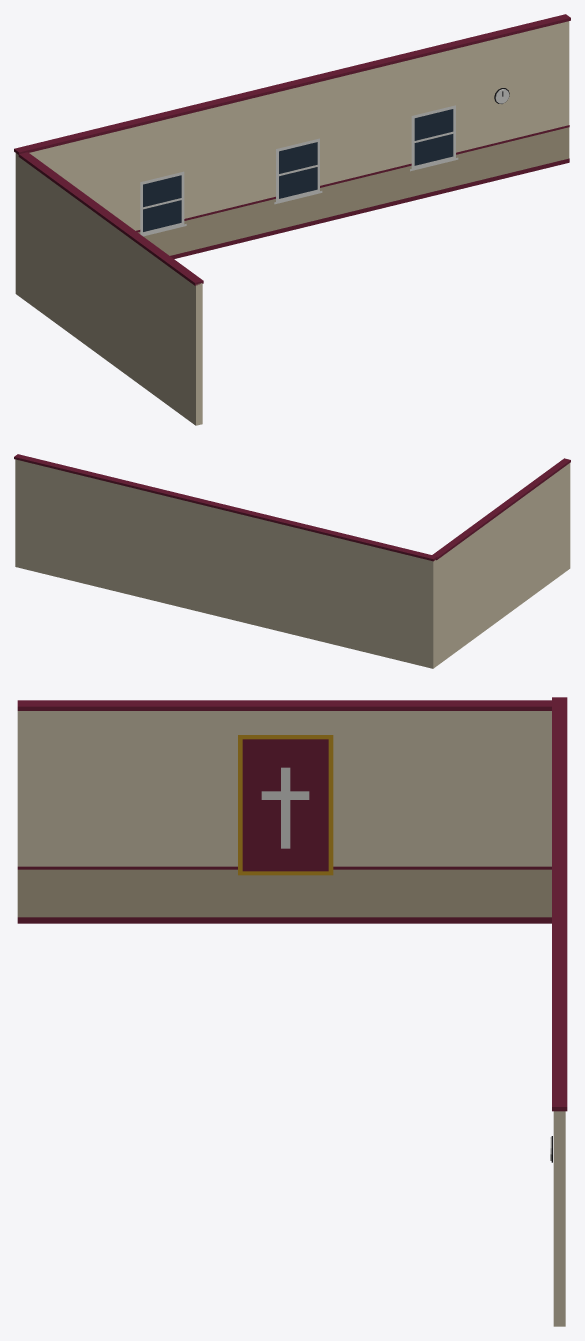
Rendered from building_room_church.glb.
3 renders of one model, top to bottom at view 1: azimuth 30°, elevation 25°; view 2: azimuth 150°, elevation 25°; view 3: azimuth 270°, elevation 25°, orthographic. The views are drawn at different scales.
Parts seen in each view (by area): view 1: body; view 2: body; view 3: body.
Boxes of the visible parts, <box> form: body: <box>14,14,570,425</box>; body: <box>14,454,570,668</box>; body: <box>17,697,567,1326</box>.
Size of the model in its own units: 16.26 by 4.08 by 9.23.
